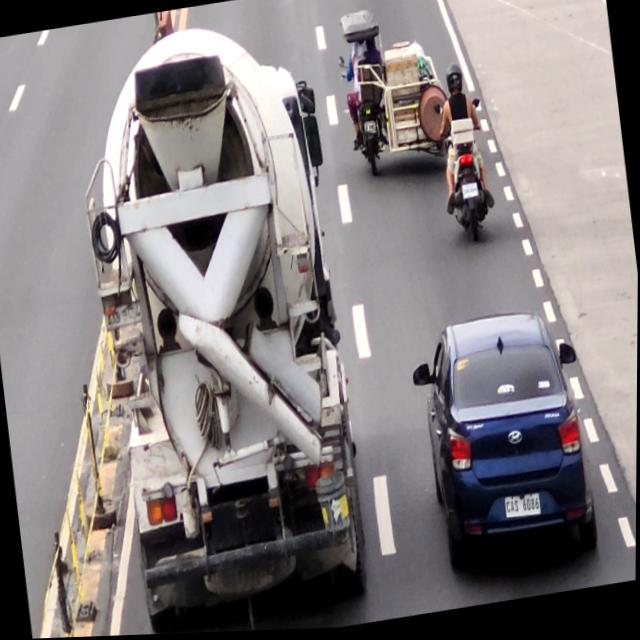Car: (404, 308, 608, 594)
License-Plate: (504, 494, 544, 525), (103, 303, 145, 330), (462, 184, 479, 202), (363, 123, 377, 137)
Motorcycle: (431, 97, 499, 253)
Tricycle: (330, 0, 454, 179)
Truck: (63, 7, 379, 638)
